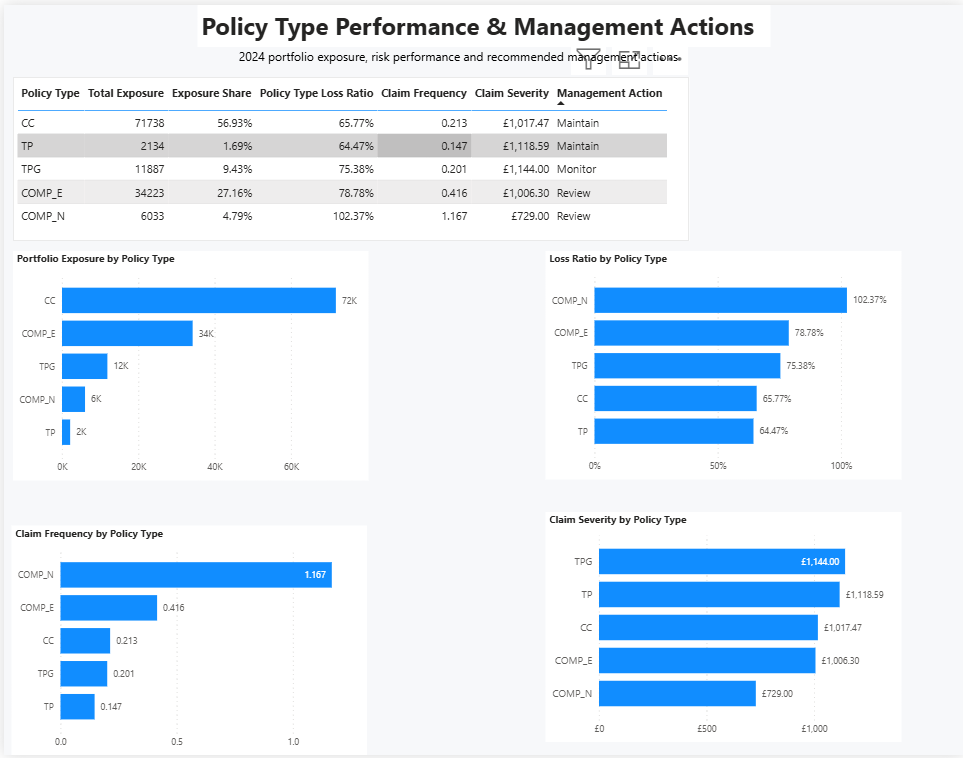

What the dashboard file says about the page in this screenshot:
{"tool":"powerbi","page":{"name":"Management Action Matrix","canvas":[1280,1000],"ordinal":2},"visuals":[{"type":"tableEx","fields":{"Values":["analytics vw_policy_type_performance.policy_type","Sum(analytics vw_policy_type_performance.total_exposure)","analytics vw_policy_type_performance.Exposure Share","analytics vw_policy_type_performance.Policy Type Loss Ratio","analytics vw_policy_type_performance.Claim Frequency","analytics vw_policy_type_performance.Claim Severity","analytics vw_compn_risk_segments.Management Action"]},"box":[12.2,77.1,901.2,219.2],"z":0},{"type":"textbox","box":[371,0,331.6,34.8],"z":1000},{"type":"textbox","box":[278.6,34.8,516.3,42.4],"z":2000},{"type":"clusteredBarChart","title":"Portfolio Exposure by Policy Type","fields":{"Category":["analytics vw_policy_type_performance.policy_type"],"Y":["Sum(analytics vw_policy_type_performance.total_exposure)"]},"box":[11.6,327.8,474,306],"z":3000},{"type":"clusteredBarChart","title":"Loss Ratio by Policy Type","fields":{"Category":["analytics vw_policy_type_performance.policy_type"],"Y":["analytics vw_policy_type_performance.Policy Type Loss Ratio"]},"box":[722.6,328.8,475,304.5],"z":4000},{"type":"clusteredBarChart","title":"Claim Frequency by Policy Type","fields":{"Category":["analytics vw_policy_type_performance.policy_type"],"Y":["analytics vw_policy_type_performance.Claim Frequency"]},"box":[10.1,694,474,306],"z":5000},{"type":"clusteredBarChart","title":"Claim Severity by Policy Type","fields":{"Category":["analytics vw_policy_type_performance.policy_type"],"Y":["analytics vw_policy_type_performance.Claim Severity"]},"box":[722.6,675.9,475,306.5],"z":5001}]}

Visuals, with their boxes in screenshot pixels (x1, y1, x2, y2), scaled from the page's 1280x1000 canvas onto the 963x758 screenshot:
tableEx - analytics vw_policy_type_performance.policy_type x Sum(analytics vw_policy_type_performance.total_exposure): region(9, 58, 687, 225)
textbox: region(279, 0, 529, 26)
textbox: region(210, 26, 598, 59)
"Portfolio Exposure by Policy Type" clusteredBarChart: region(9, 248, 365, 480)
"Loss Ratio by Policy Type" clusteredBarChart: region(544, 249, 901, 480)
"Claim Frequency by Policy Type" clusteredBarChart: region(8, 526, 364, 757)
"Claim Severity by Policy Type" clusteredBarChart: region(544, 512, 901, 745)
